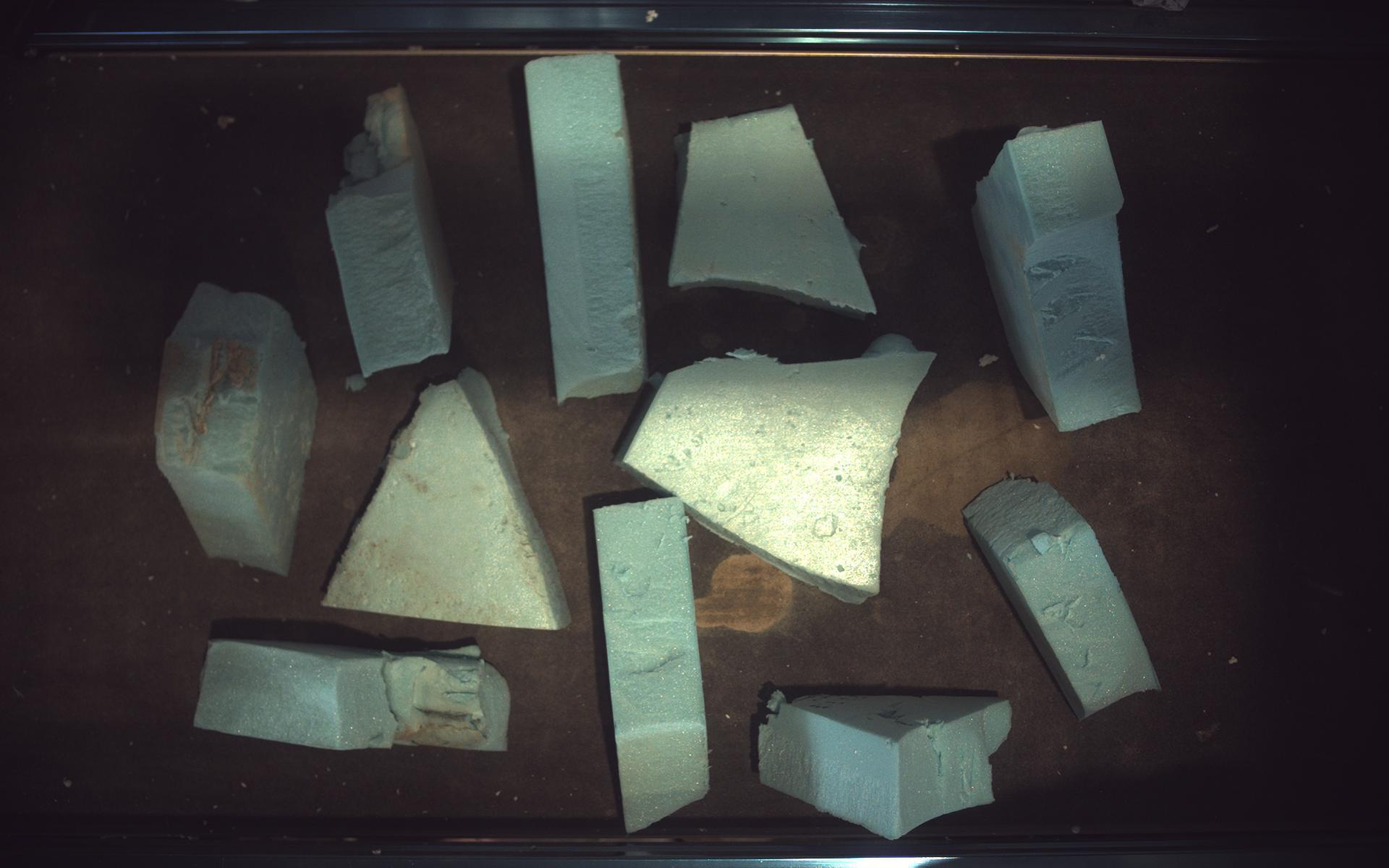foam: (624, 336, 938, 604), (323, 370, 570, 631), (976, 120, 1143, 431), (154, 282, 317, 576), (966, 479, 1163, 720), (671, 104, 878, 318), (525, 54, 647, 403), (594, 498, 710, 833), (760, 692, 1014, 841), (326, 85, 451, 378), (193, 640, 509, 752)
